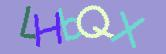H: (33, 12, 61, 46)
L: (20, 6, 39, 38)
Q: (76, 5, 115, 39)
X: (110, 11, 145, 48)
b: (58, 8, 82, 40)
